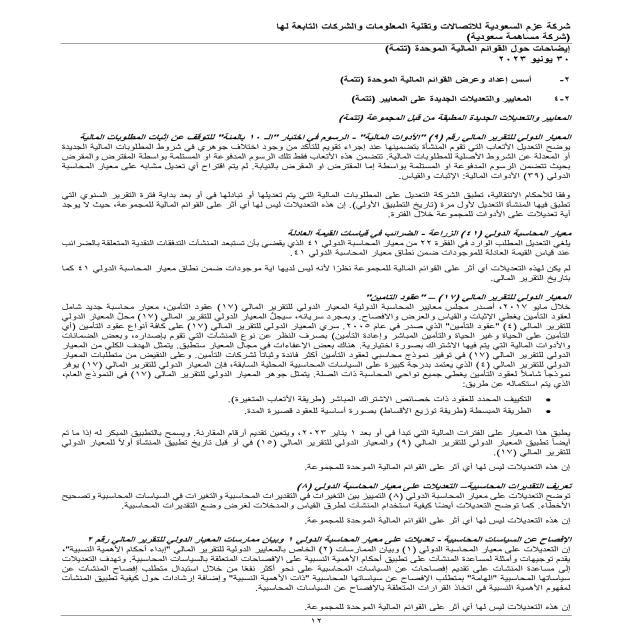notes: (378, 45, 578, 54)
text: (29, 67, 586, 617)
